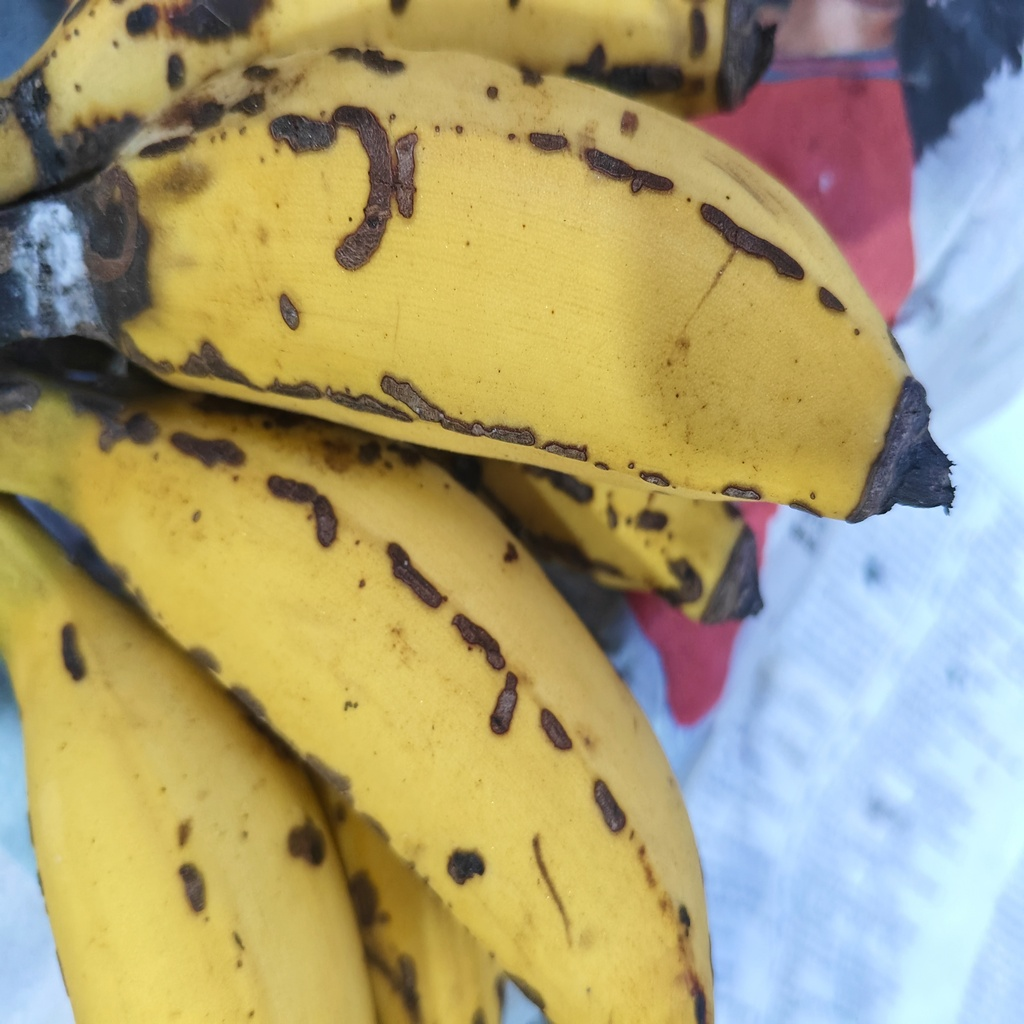unhealthy: (75, 367, 715, 1024), (91, 43, 953, 515)
